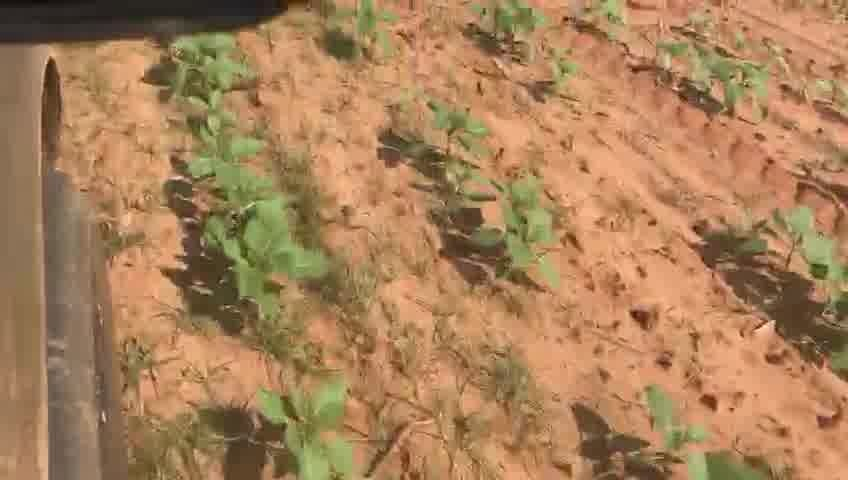sunflower: (190, 194, 335, 326), (460, 170, 570, 291), (641, 380, 769, 475), (252, 368, 356, 480), (418, 96, 502, 203), (766, 205, 837, 322), (178, 113, 277, 195), (164, 42, 252, 109), (654, 32, 726, 106), (710, 53, 780, 124), (326, 3, 403, 63), (484, 4, 549, 56), (542, 43, 578, 99)
